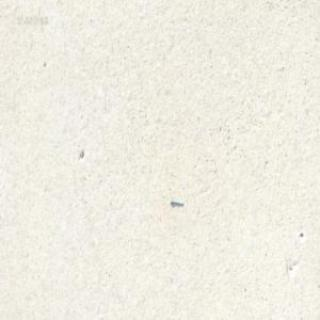Nailtrack_idkeyframe: (169, 197, 183, 206)
